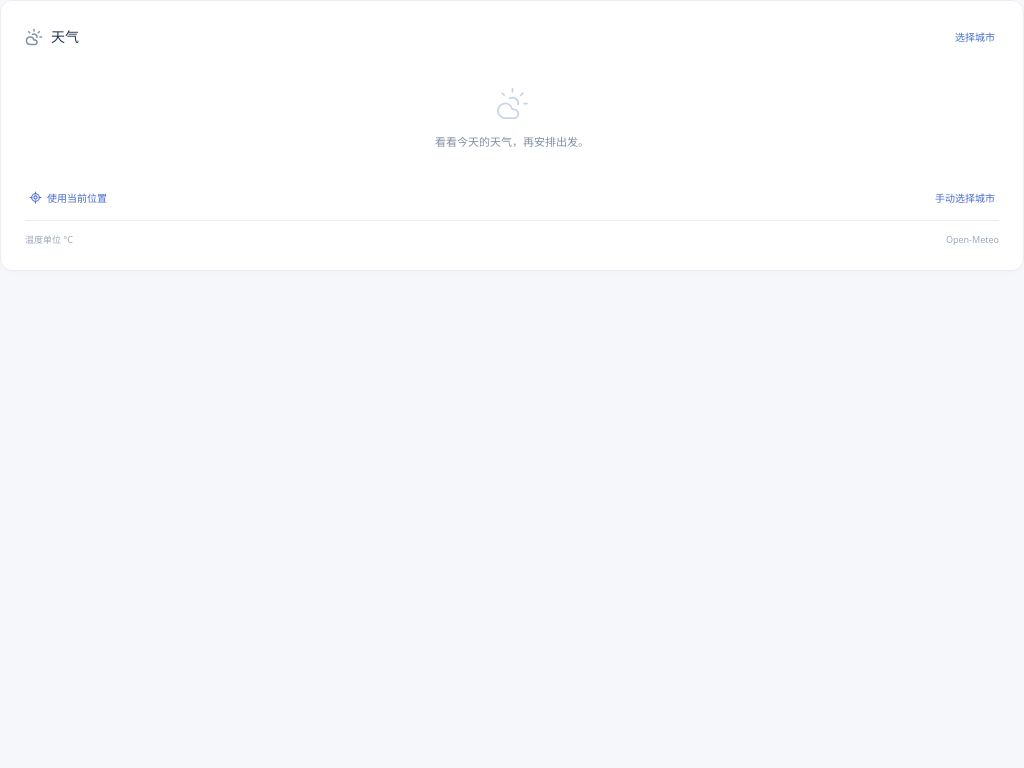
Scenario: 取消城市弹窗恢复焦点；输入改变时忽略旧搜索结果
Click the button "选择城市" at [975, 37], box [951,24,999,50]
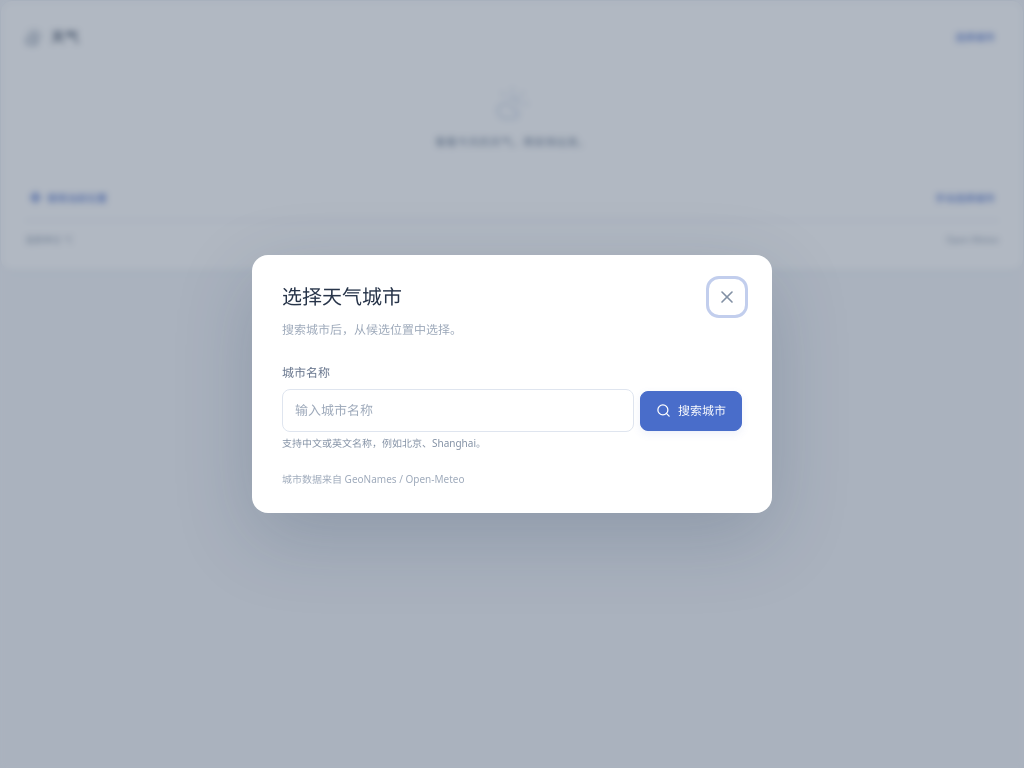
Type "北京" into the field labelled "城市名称" at [458, 411], box [282,389,634,432]
Click the button "搜索城市" at [691, 411], box [640,391,742,431]
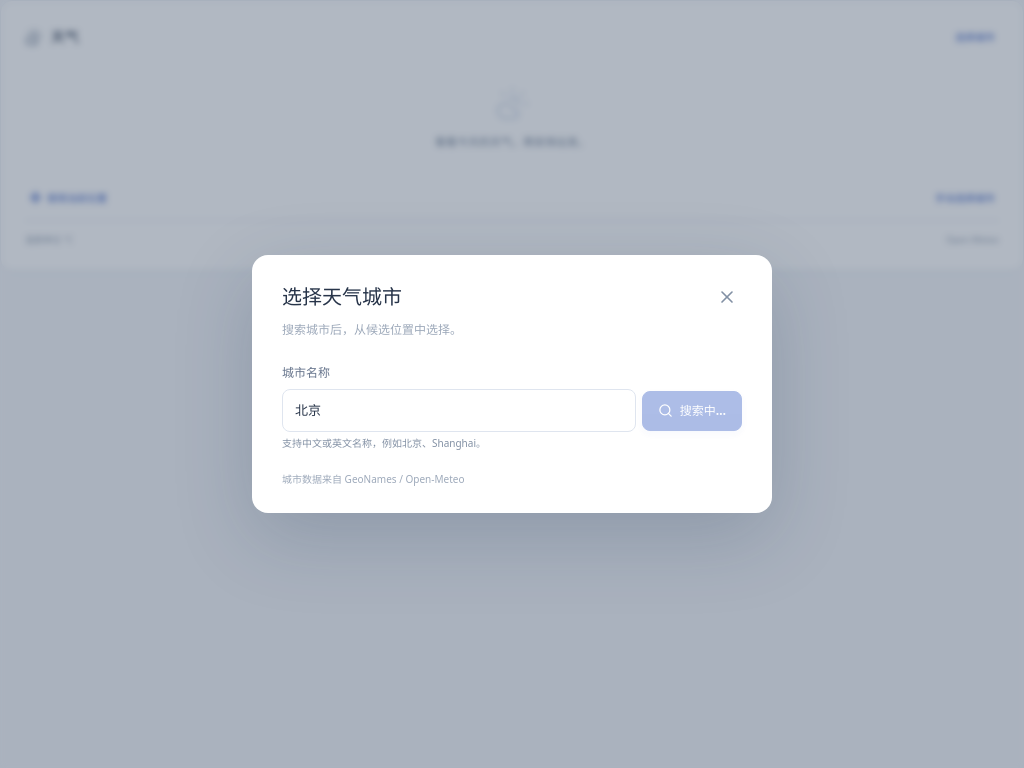
Clear the field labelled "城市名称" at [459, 411], box [282,389,636,432]
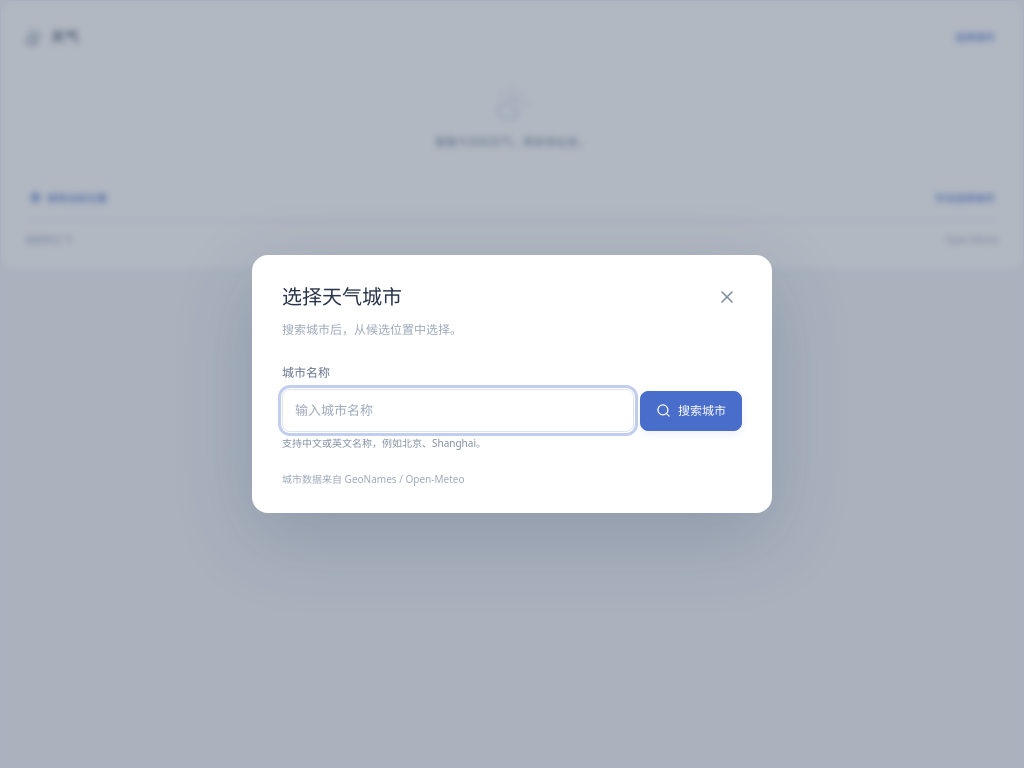
Type "上海" into the field labelled "城市名称" at [458, 411], box [282,389,634,432]
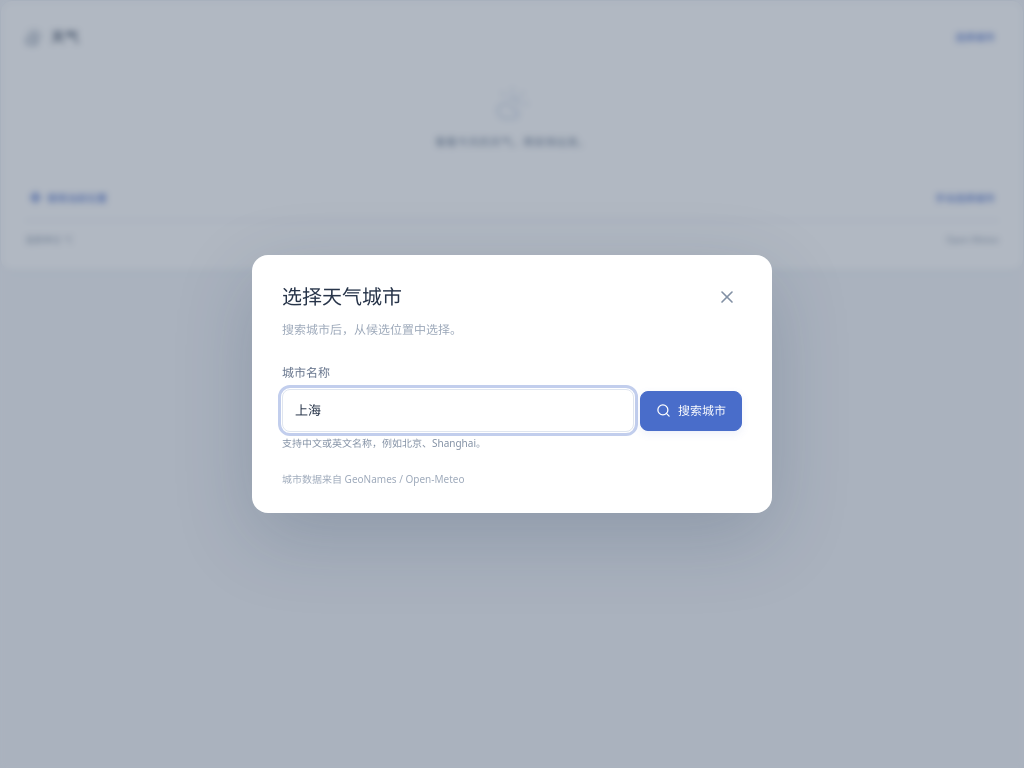
Expected: the text "北京市 · 中国" is not shown
Click the button "搜索城市" at [691, 411], box [640,391,742,431]
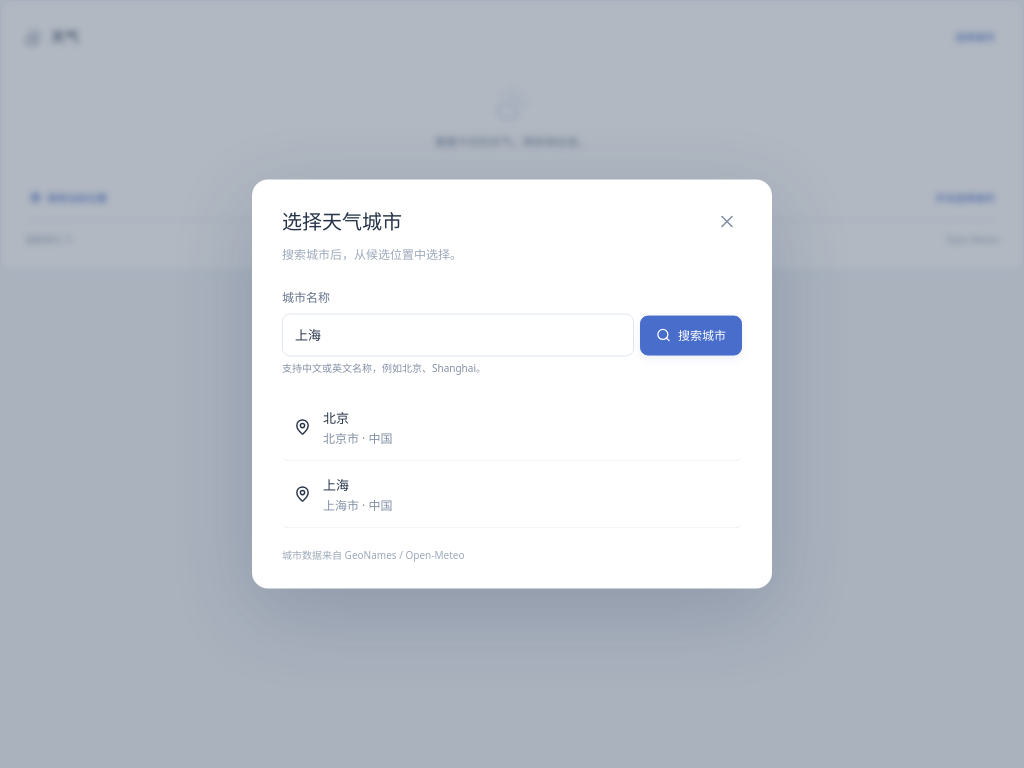
Now the text "上海市 · 中国" is shown, box [323,495,392,514]
Press Escape
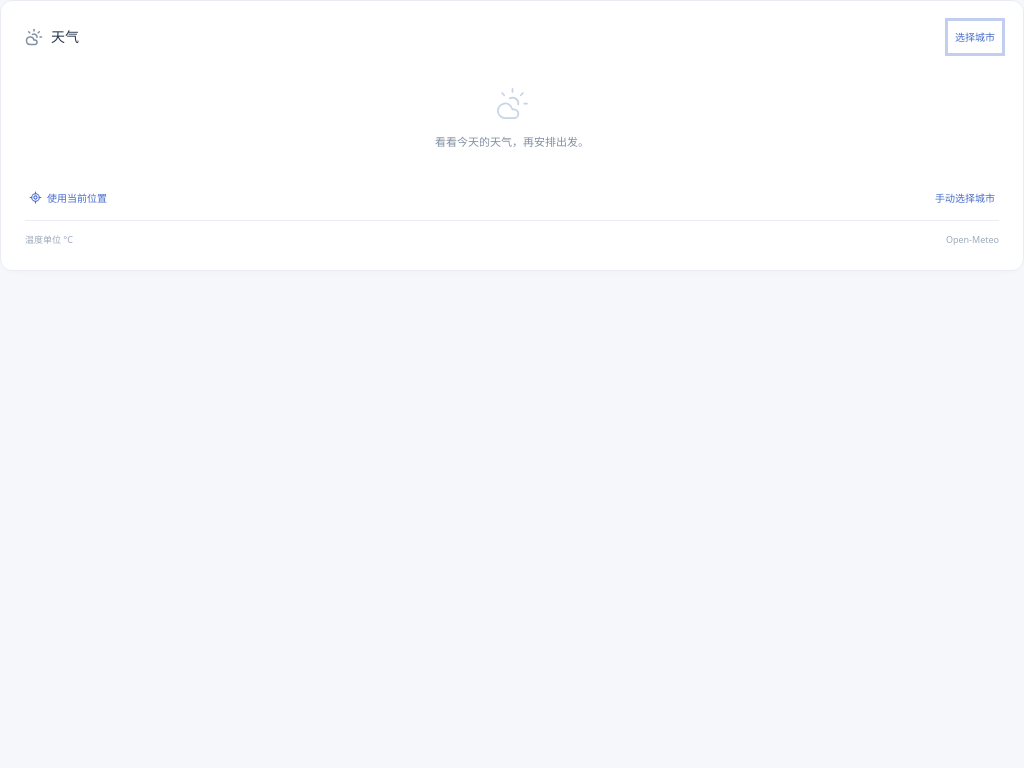
Now the dialog is gone
